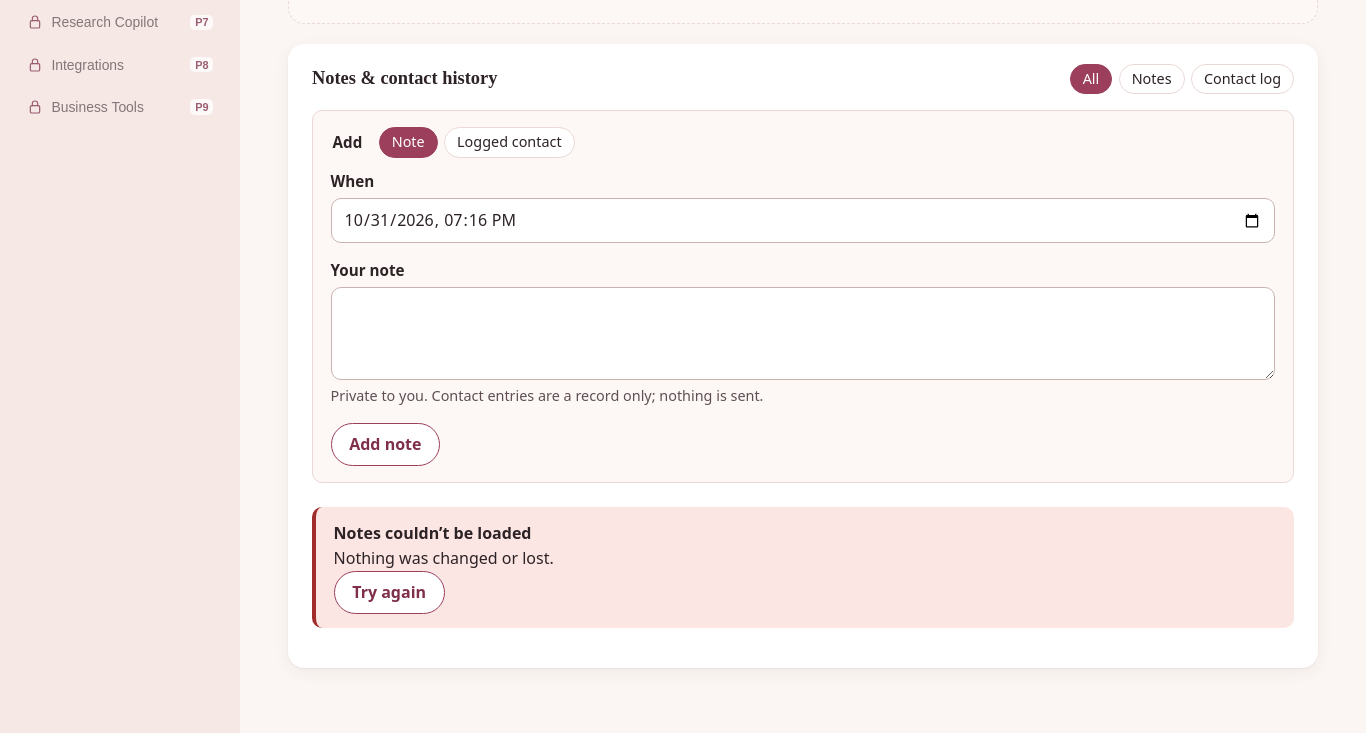
Test: notes and contact history › explains when notes cannot be loaded and retries
(page scrolled)
Check: the text "Notes couldn’t be loaded" is shown, box [334,522,532,544]
Click the button "Try again".
click(389, 592)  # box [334,571,445,614]
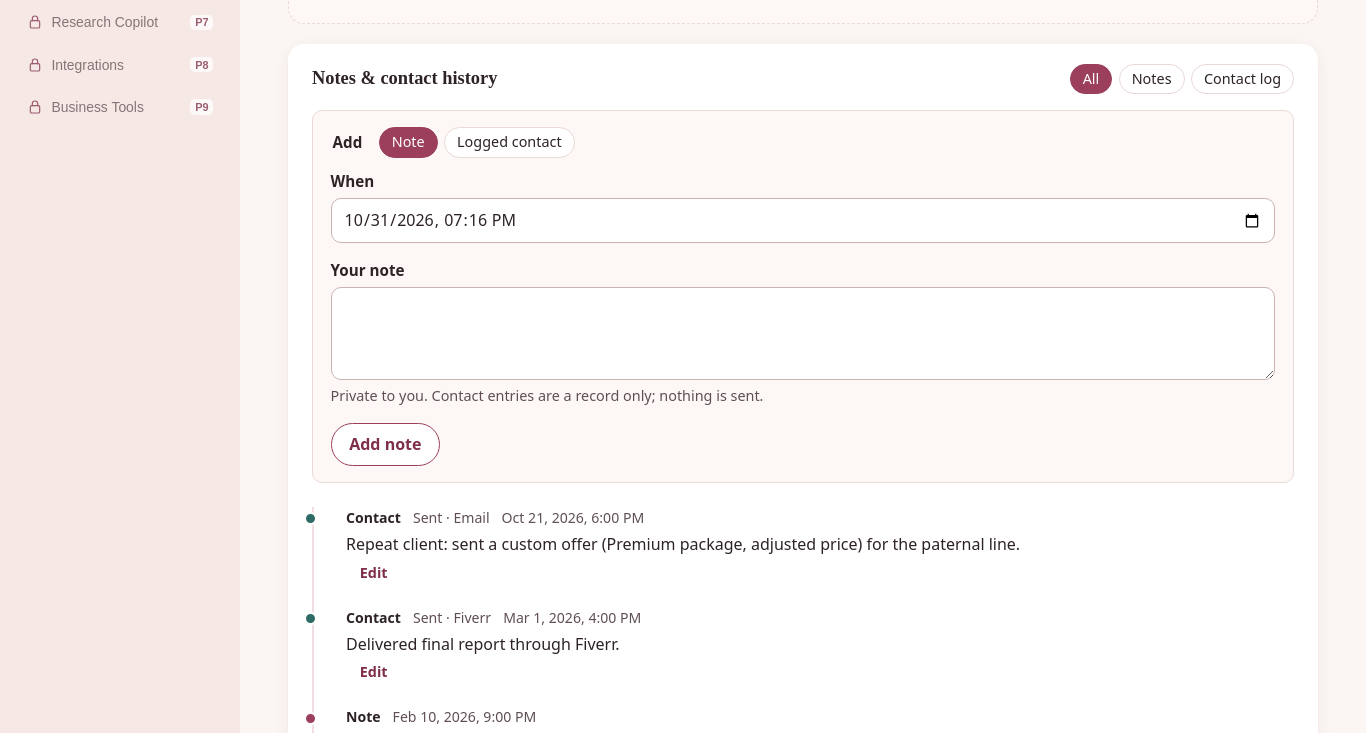
Check: the text "Repeat client" is shown, box [346,533,1020,555]
